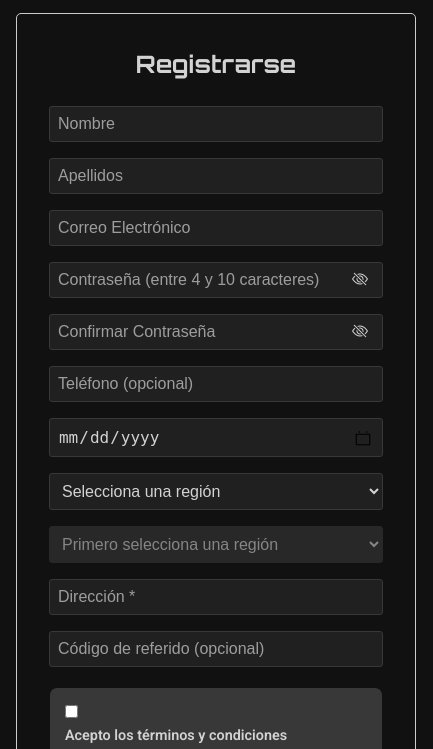
Test: Register › Debería mostrar error cuando no se aceptan los términos
Type "Juan" into the field with placeholder "Nombre". click: (216, 124)
box: [49, 106, 383, 142]
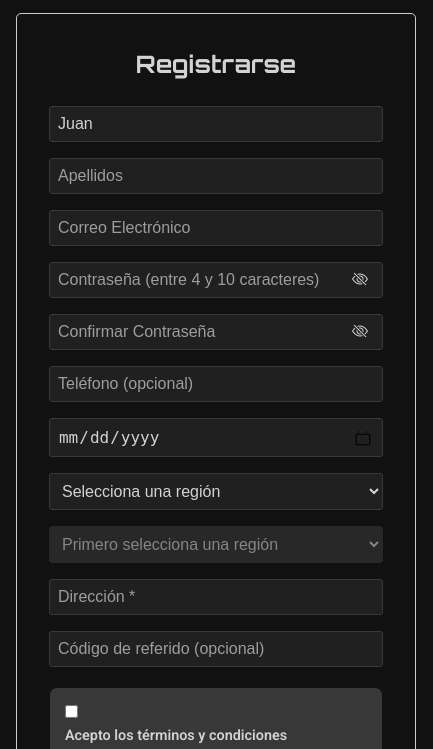
Type "juan@example.com" into the field with placeholder "Correo Electrónico". click: (216, 228)
box: [49, 210, 383, 246]
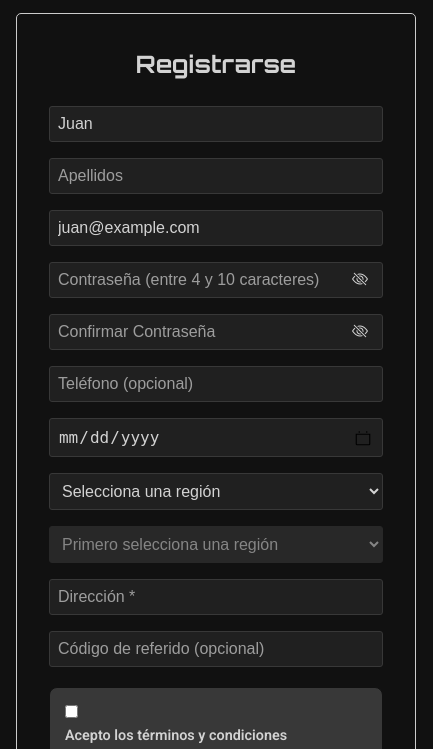
Type "1234" into the password field with placeholder "Contraseña (entre 4 y 10 caracteres)". click: (216, 280)
box: [49, 262, 383, 298]
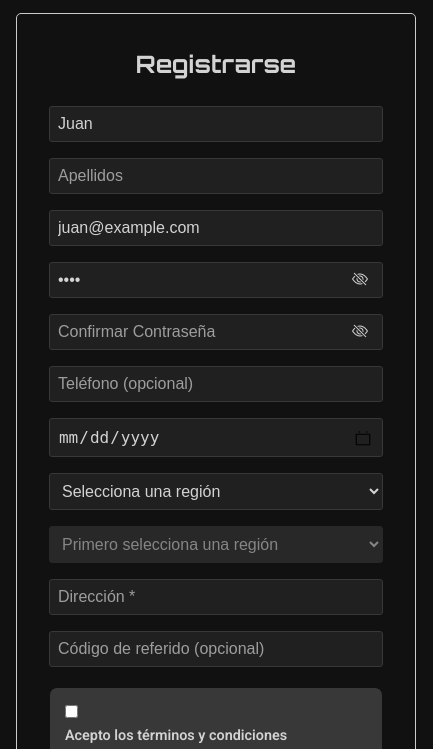
Type "1234" into the password field with placeholder "Confirmar Contraseña". click: (216, 332)
box: [49, 314, 383, 350]
(page scrolled)
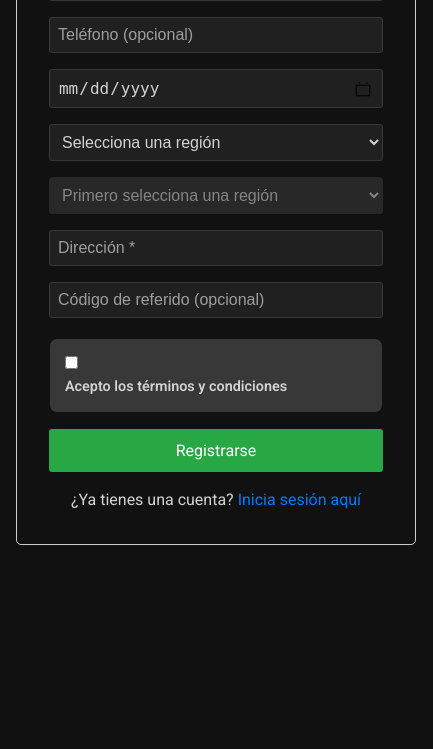
Click the button "Registrarse". click: (216, 450)
box: [49, 429, 383, 472]
(page scrolled)
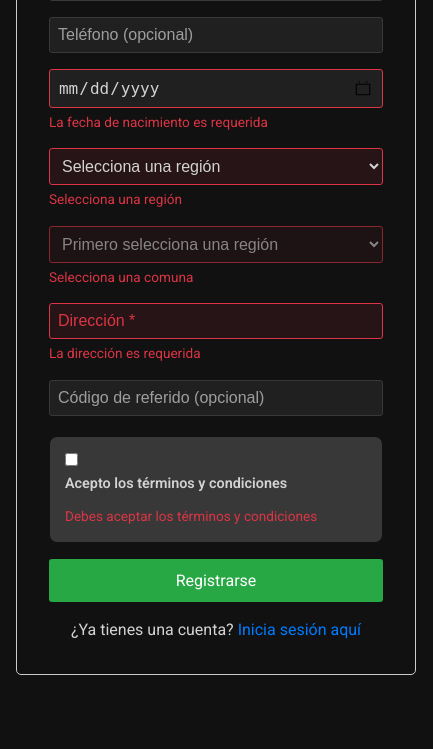
Expected: the text "Debes aceptar los términos y condiciones" is shown, [65, 506, 317, 527]
